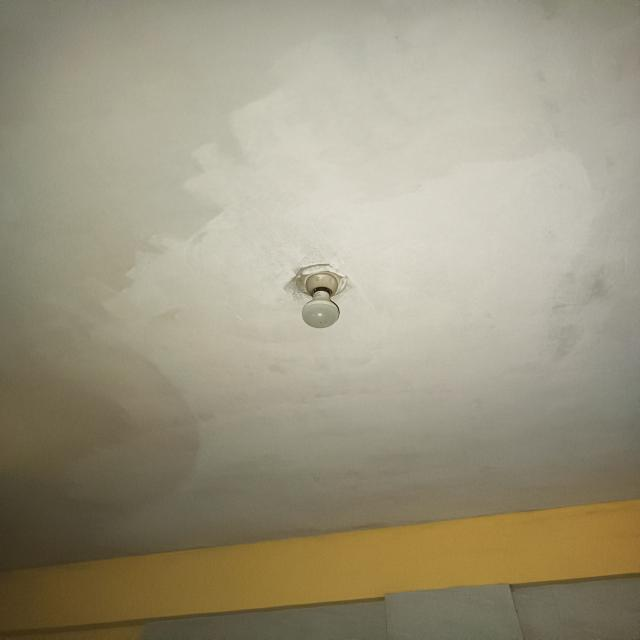bulb_off: (303, 272, 338, 330)
